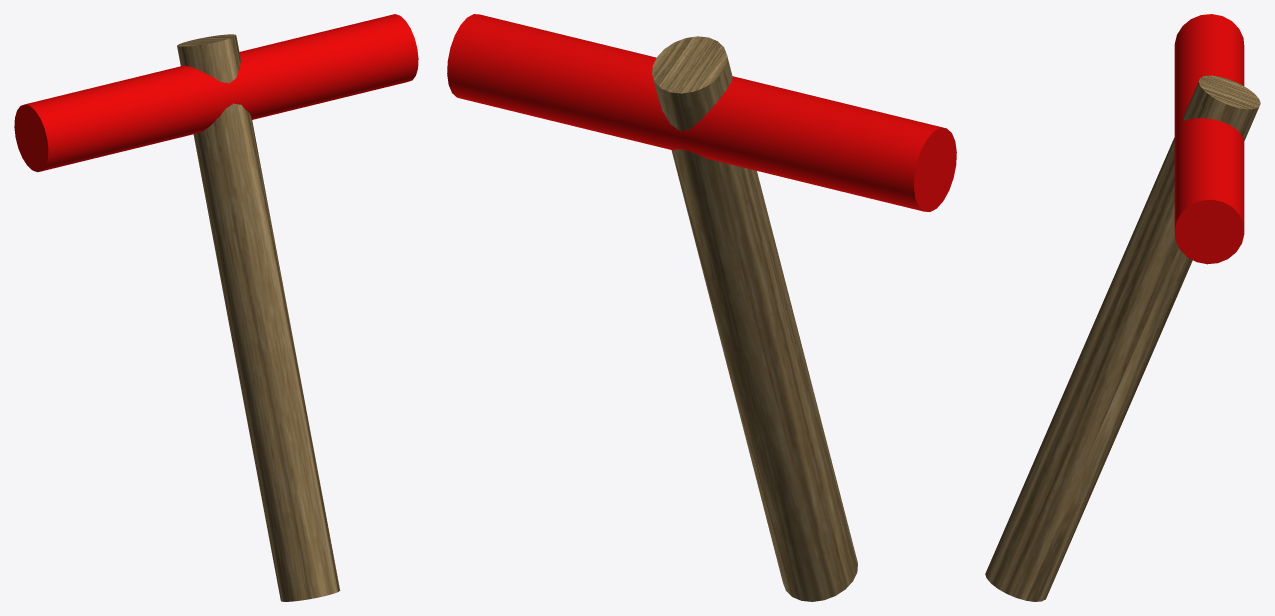
Rendered from Lever 3.fbx.
3 views of the same model, side by side, from view 1: azimuth 30°, elevation 25°; view 2: azimuth 150°, elevation 25°; view 3: azimuth 270°, elevation 25° (orthographic). The views are drawn at different scales.
Parts seen in each view (by area): view 1: polySurface35, polySurface34; view 2: polySurface34, polySurface35; view 3: polySurface35, polySurface34.
Part boxes in pixels (x1,y1,x2,y2): polySurface35: [177, 34, 340, 601]; polySurface34: [14, 14, 418, 172]; polySurface34: [447, 14, 956, 211]; polySurface35: [652, 36, 857, 601]; polySurface35: [985, 75, 1260, 601]; polySurface34: [1174, 14, 1244, 264].
Bounding box in the file's own units: 1.58 × 2.05 × 0.9929.
2 materials, 1 textured.
